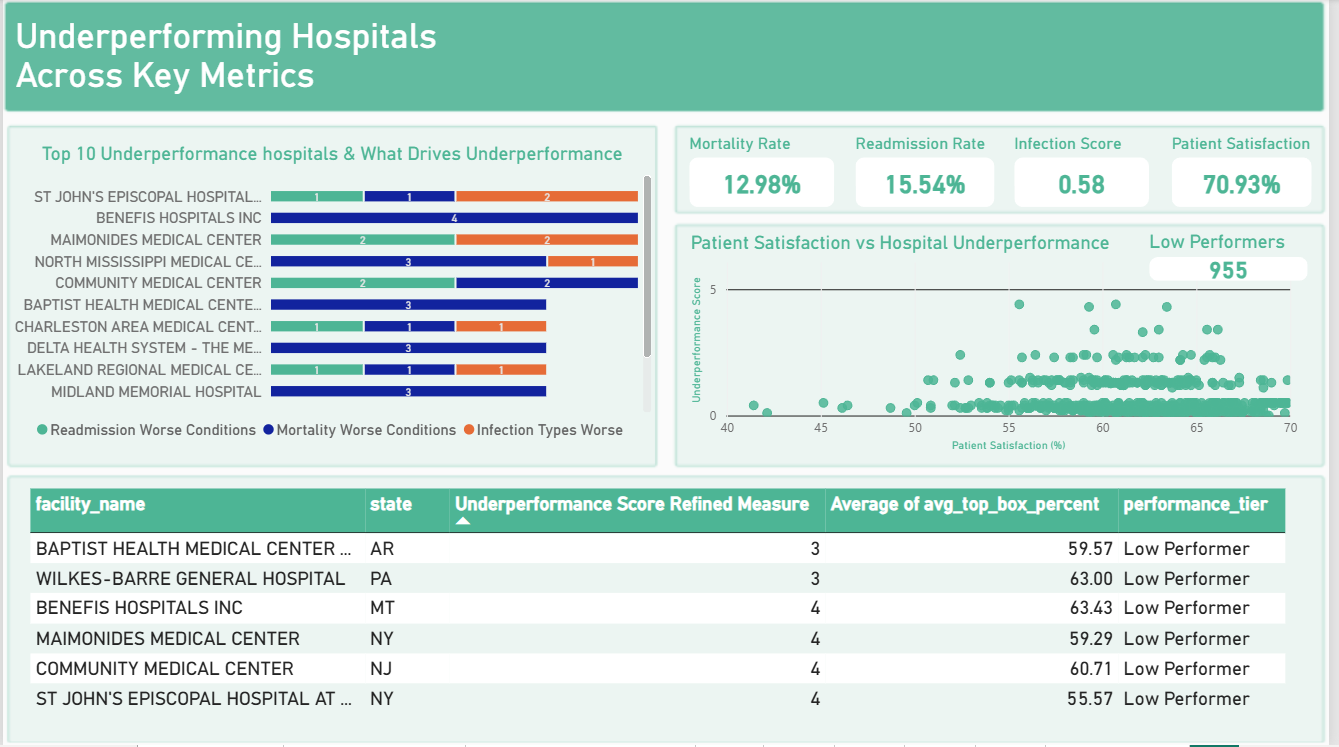

What the dashboard file says about the page in this screenshot:
{"tool":"powerbi","page":{"name":"Q1","canvas":[1280,720],"ordinal":3},"visuals":[{"type":"textbox","box":[12.3,16,501.8,88.7],"z":0},{"type":"barChart","title":"Top 10 Underperformance hospitals & What Drives Underperformance","fields":{"Y":["vw_hospital_performance_Long_version.Readmission Worse Conditions","vw_hospital_performance_Long_version.Mortality Worse Conditions","vw_hospital_performance_Long_version.Infection Types Worse"],"Category":["vw_hospital_performance_Long_version.Facility Short Name"]},"box":[9.6,138.6,616.1,292.3],"z":1000},{"type":"cardVisual","title":"Mortality Rate","fields":{"Data":["vw_hospital_performance_wide_20.avg_mortality_rate (%)"]},"box":[662,130,140,71],"z":2000},{"type":"cardVisual","title":"Readmission Rate","fields":{"Data":["vw_hospital_performance_wide_20.avg_readmission_rate (%)"]},"box":[823,130,134,71],"z":3000},{"type":"cardVisual","title":"Infection Score","fields":{"Data":["Avg(vw_hospital_performance_Long_version.avg_infection_score)"]},"box":[975.7,130,130,71.4],"z":4000},{"type":"cardVisual","title":"Patient Satisfaction","fields":{"Data":["vw_hospital_performance_wide_20.avg_top_box_percent (%)"]},"box":[1128.6,130,135.7,71.4],"z":5000},{"type":"scatterChart","title":"Patient Satisfaction vs Hospital Underperformance","fields":{"Y":["vw_hospital_performance_Long_version.Underperformance Score Refined Measure"],"Series":["vw_hospital_performance_Long_version.performance_tier"],"Category":["vw_hospital_performance_Long_version.facility_name"],"X":["Avg(vw_hospital_performance_Long_version.avg_top_box_percent)"]},"box":[647.7,209.9,617.5,242.9],"z":6000},{"type":"tableEx","fields":{"Values":["vw_hospital_performance_Long_version.facility_name","vw_hospital_performance_Long_version.state","vw_hospital_performance_Long_version.Underperformance Score Refined Measure","Avg(vw_hospital_performance_Long_version.avg_top_box_percent)","vw_hospital_performance_Long_version.performance_tier"]},"box":[9.6,452.4,1250.1,267.6],"z":7000},{"type":"cardVisual","title":"Low Performers","fields":{"Data":["vw_hospital_performance_Long_version.Low Performers"]},"box":[1106,223.7,153.7,49.4],"z":8000}]}

Visuals, with their boxes in screenshot pixels (x1, y1, x2, y2), scaled from the page's 1280x720 canvas onto the 1339x747 screenshot:
textbox: (13,17,538,109)
"Top 10 Underperformance hospitals & What Drives Underperformance" barChart: (10,144,655,447)
"Mortality Rate" cardVisual: (693,135,839,209)
"Readmission Rate" cardVisual: (861,135,1001,209)
"Infection Score" cardVisual: (1021,135,1157,209)
"Patient Satisfaction" cardVisual: (1181,135,1323,209)
"Patient Satisfaction vs Hospital Underperformance" scatterChart: (678,218,1324,470)
tableEx - vw_hospital_performance_Long_version.facility_name x vw_hospital_performance_Long_version.state: (10,469,1318,746)
"Low Performers" cardVisual: (1157,232,1318,283)
